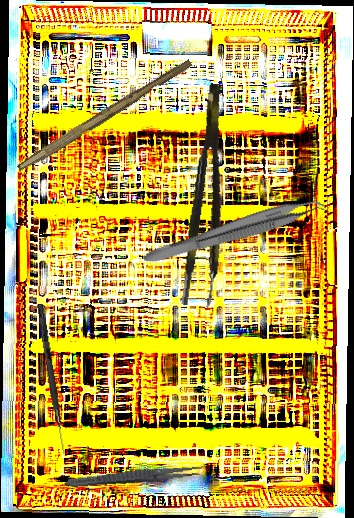Dressing Forceps: (63, 462, 207, 491)
Hook Surgical: (34, 303, 70, 455)
Scalpel Handle: (16, 55, 194, 177)
Tissue Forceps: (141, 189, 332, 276), (179, 82, 241, 309)
